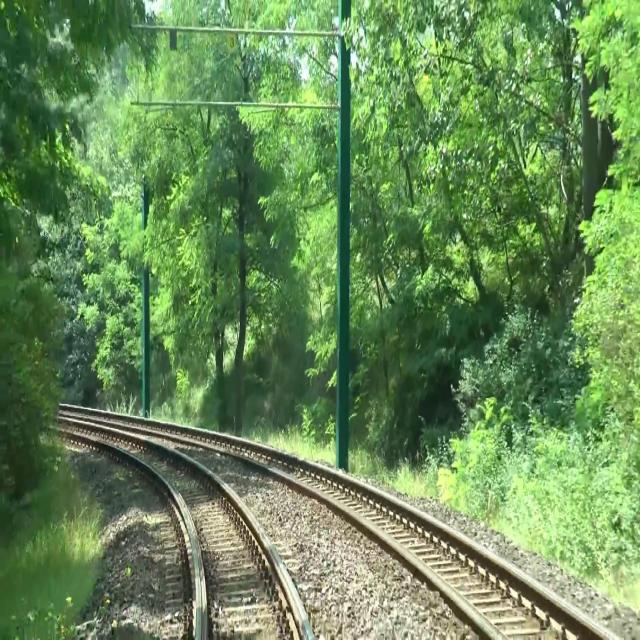rail-track: (78, 412, 603, 639), (53, 417, 304, 639)
